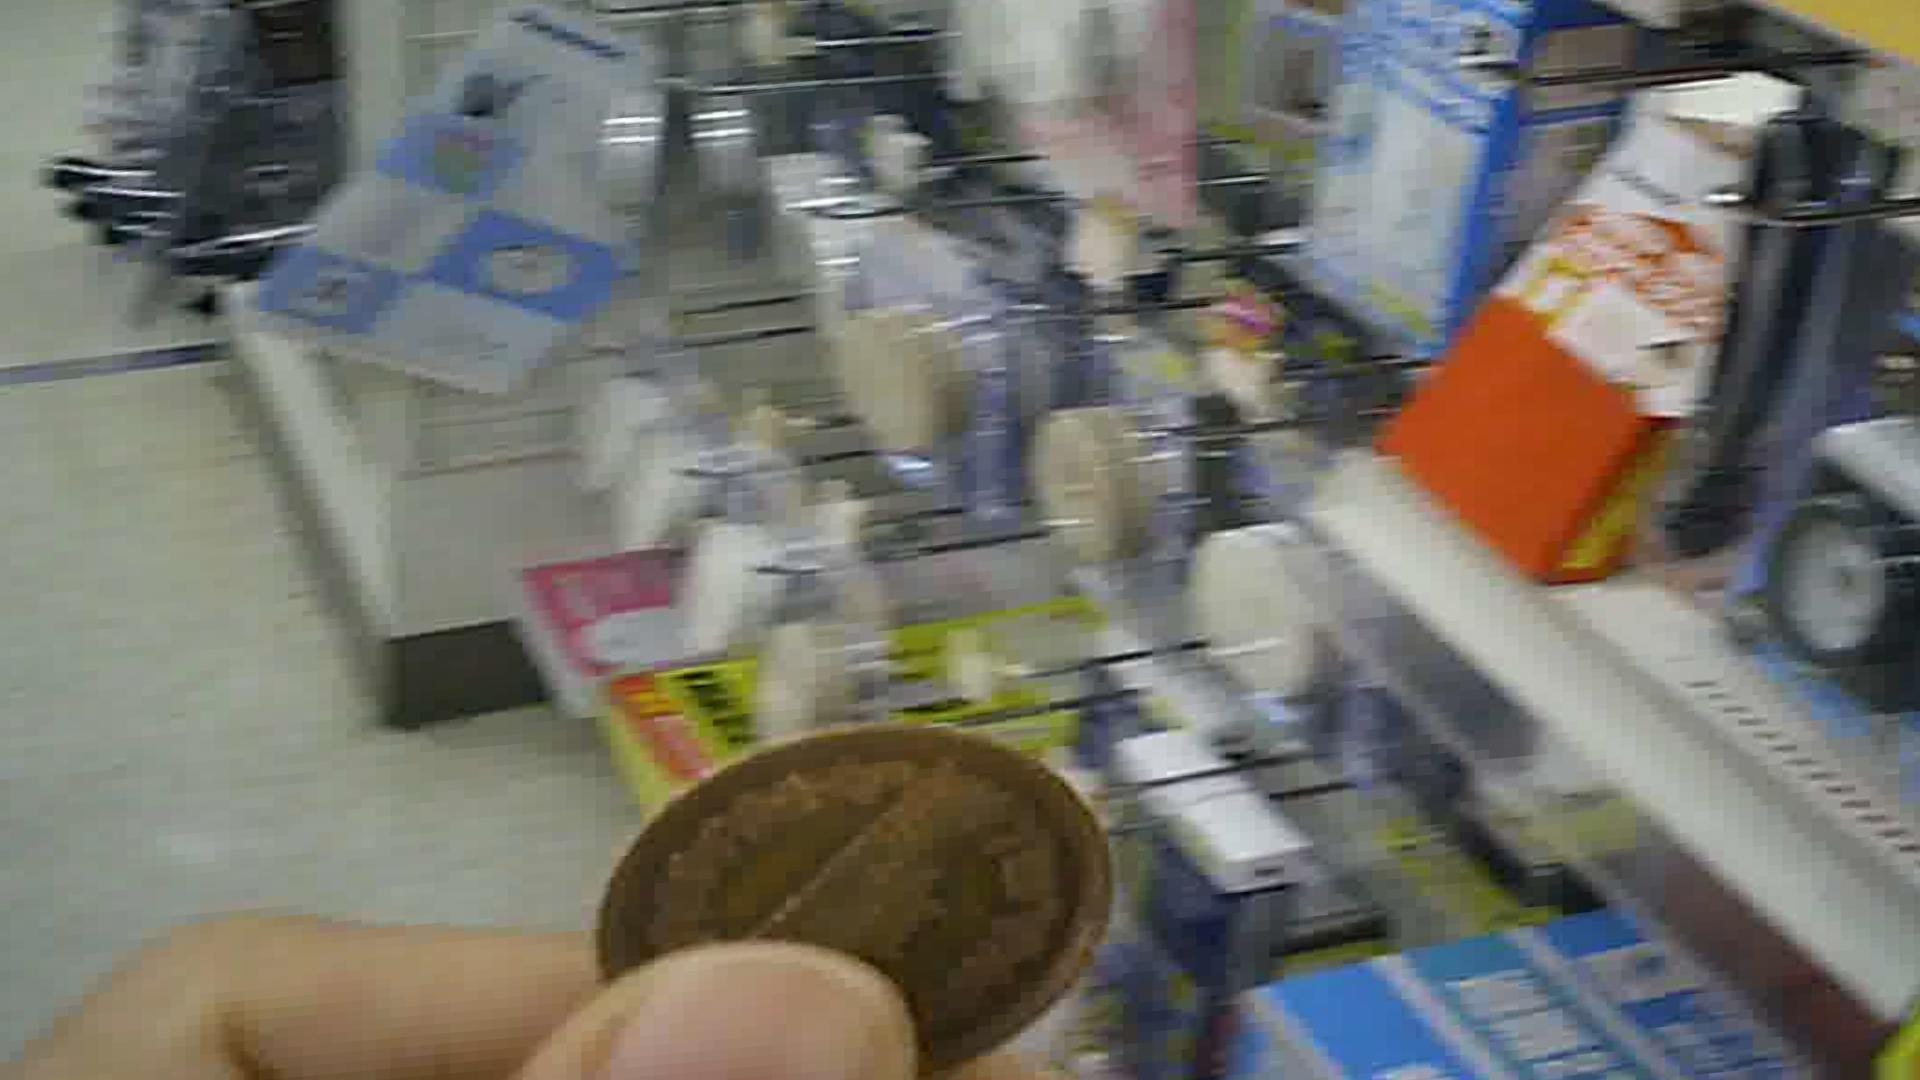10 Yen: (582, 720, 1112, 1064)
